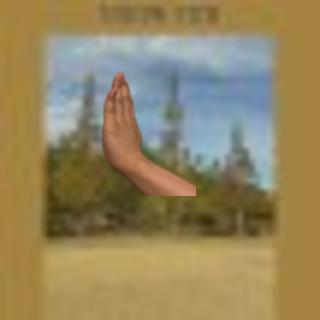RIGHT: (99, 67, 144, 175)
